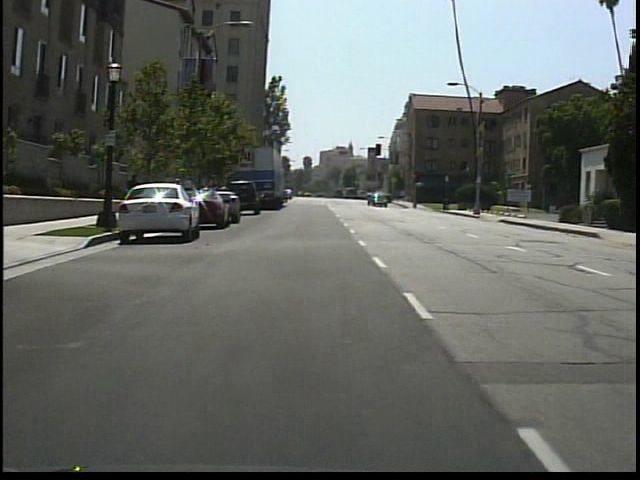person: (125, 167, 145, 218)
